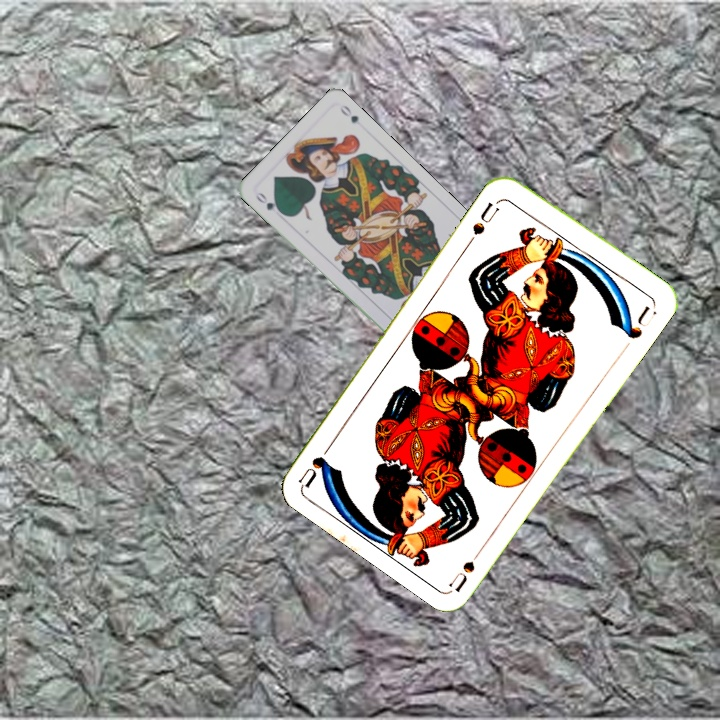GO: (252, 188, 286, 217)
SU: (446, 539, 489, 593), (468, 195, 505, 238)
